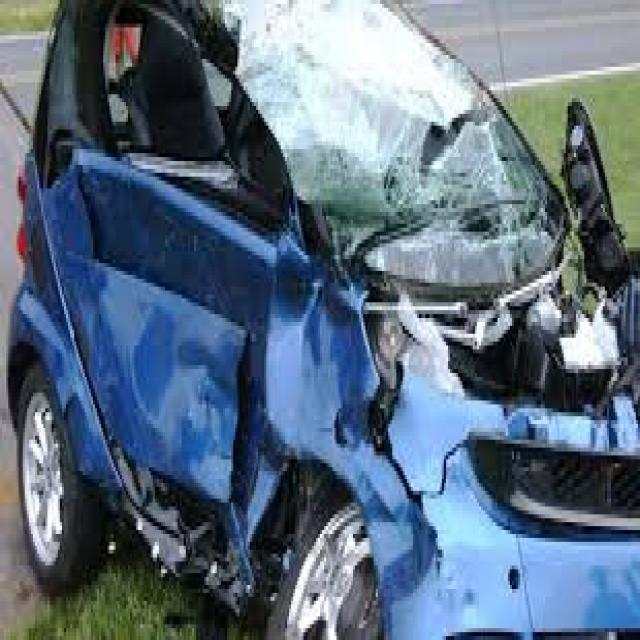severe: (16, 0, 640, 629)
